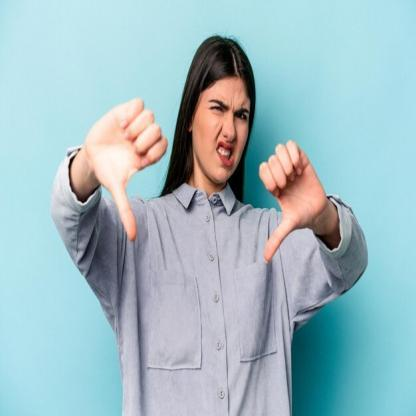thumb_down: (86, 94, 171, 244), (256, 138, 326, 267)
